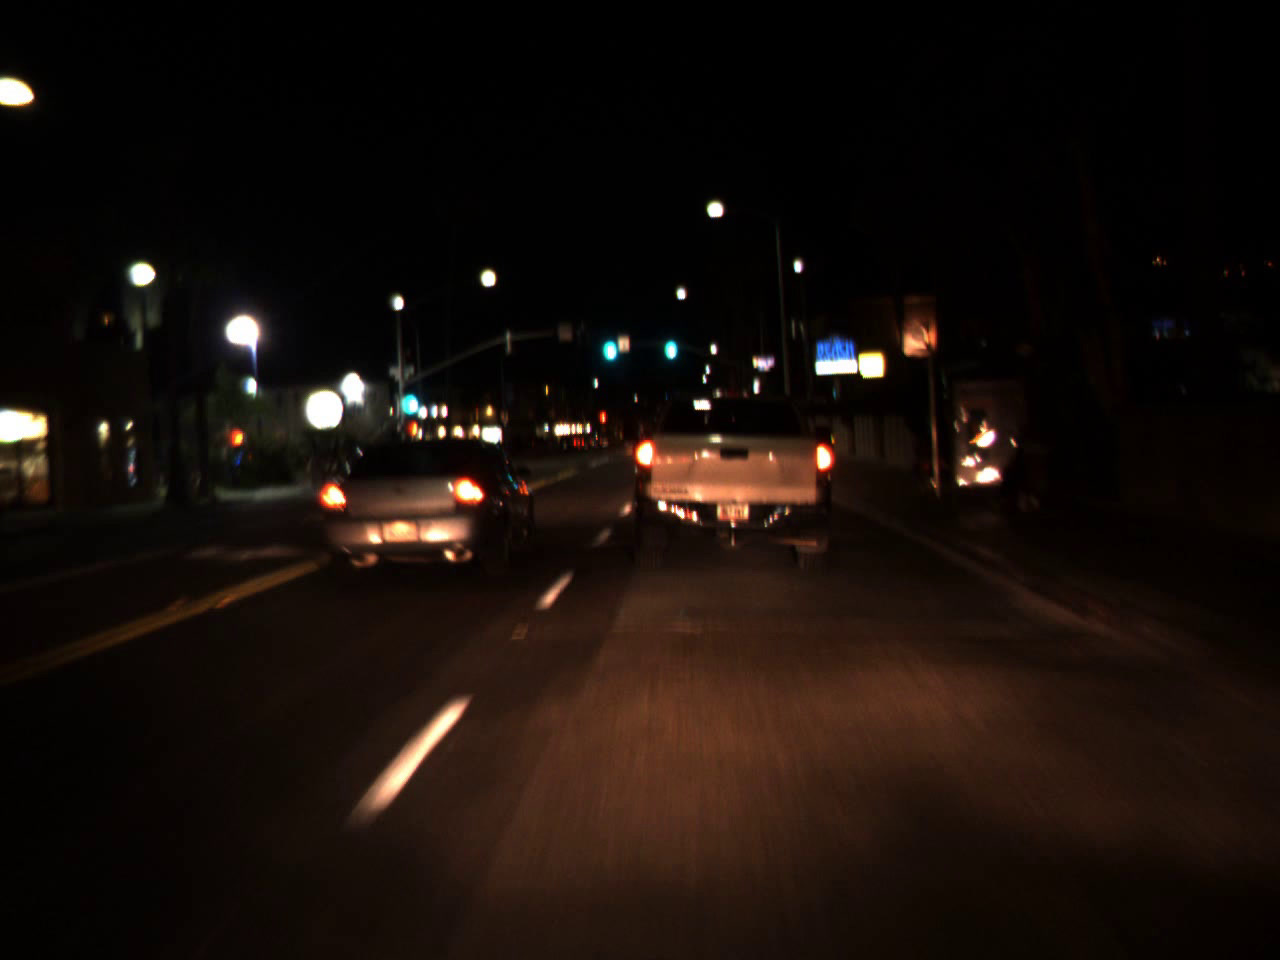go: (394, 366, 421, 423), (598, 315, 619, 369), (661, 318, 679, 366)
